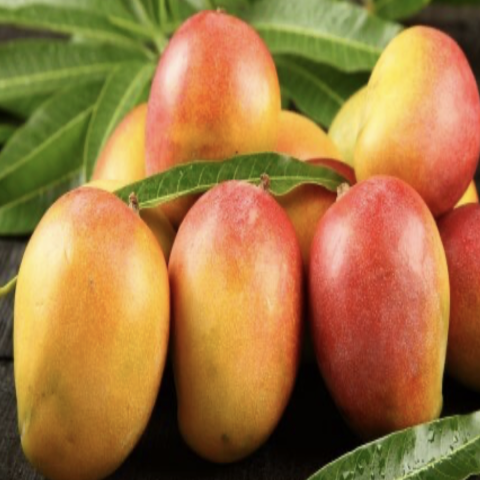mango: (8, 162, 178, 479), (299, 146, 462, 465), (163, 186, 318, 467), (133, 0, 297, 222)
